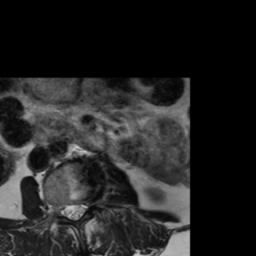CCS_stenosis: (70, 193, 78, 227)
LFS_stenosis: (86, 190, 95, 214)
LLS_normal: (78, 194, 87, 222)
RFS_normal: (54, 194, 63, 223)
RLS_normal: (62, 194, 70, 223)
